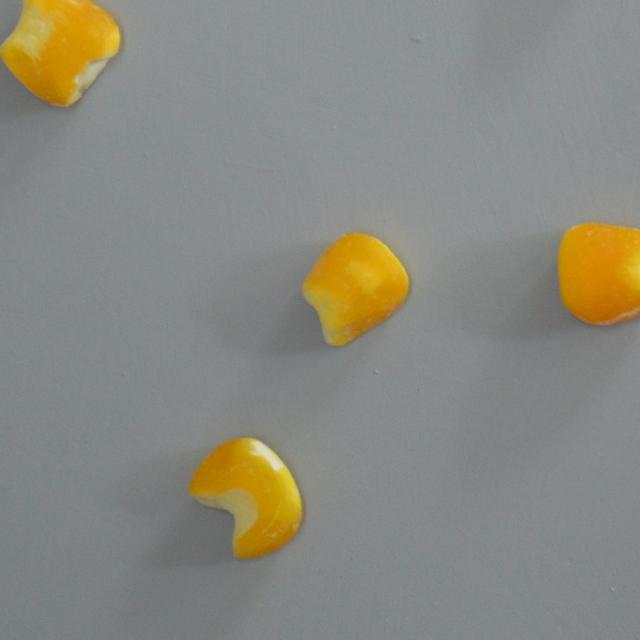no_canjicado: (187, 437, 304, 560), (0, 0, 120, 110), (300, 230, 408, 346)
pelicula: (556, 222, 640, 326)
